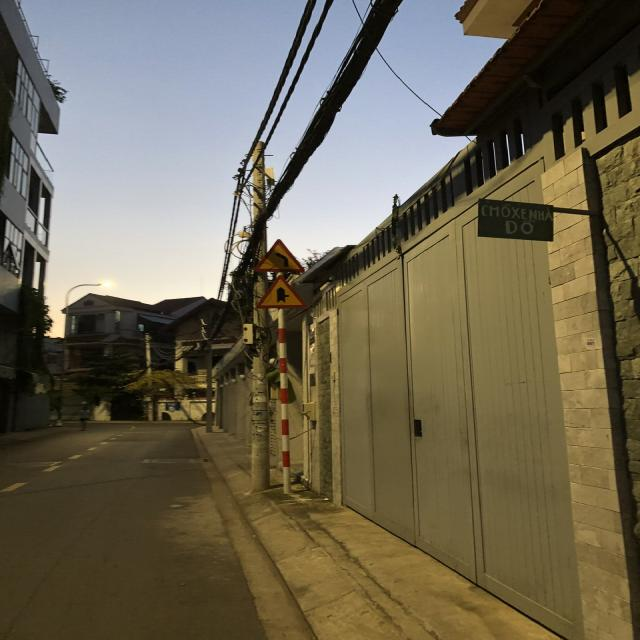Bien bao cho ngoat nguy hiem: (251, 233, 308, 276)
Bien bao giao nhau voi duong khong uu tien: (252, 272, 314, 309)
